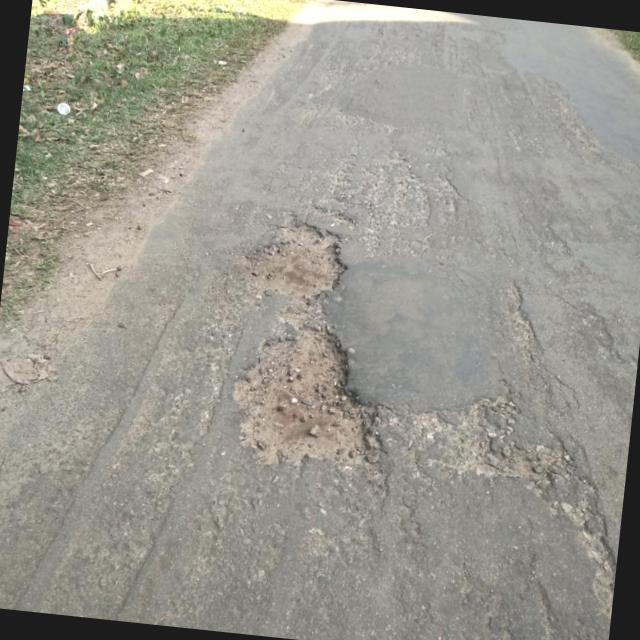Lubang: (235, 226, 380, 465)
